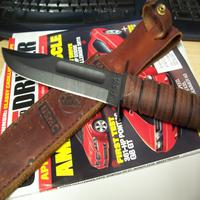knife: (1, 44, 195, 128)
